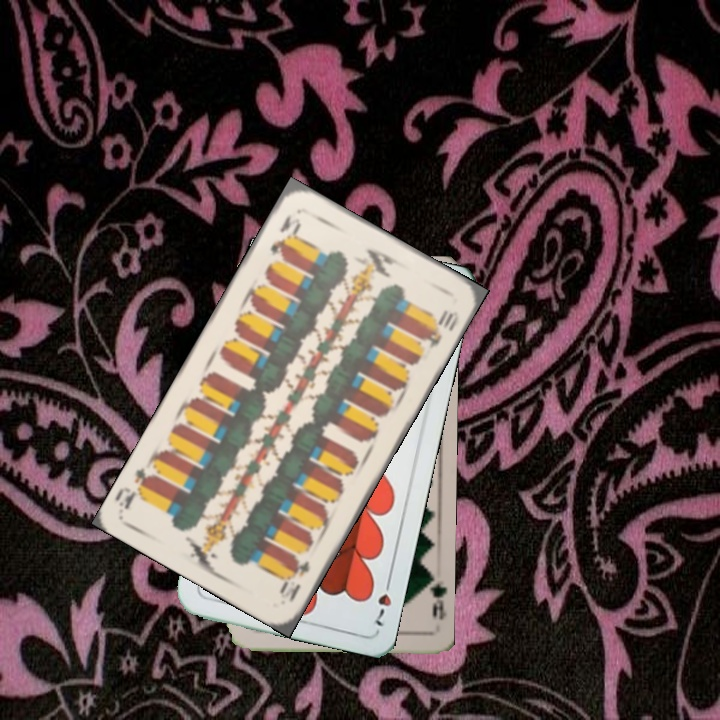E10: (265, 210, 304, 259), (275, 555, 312, 606)
G9: (420, 571, 447, 622)
H7: (371, 573, 395, 629)
